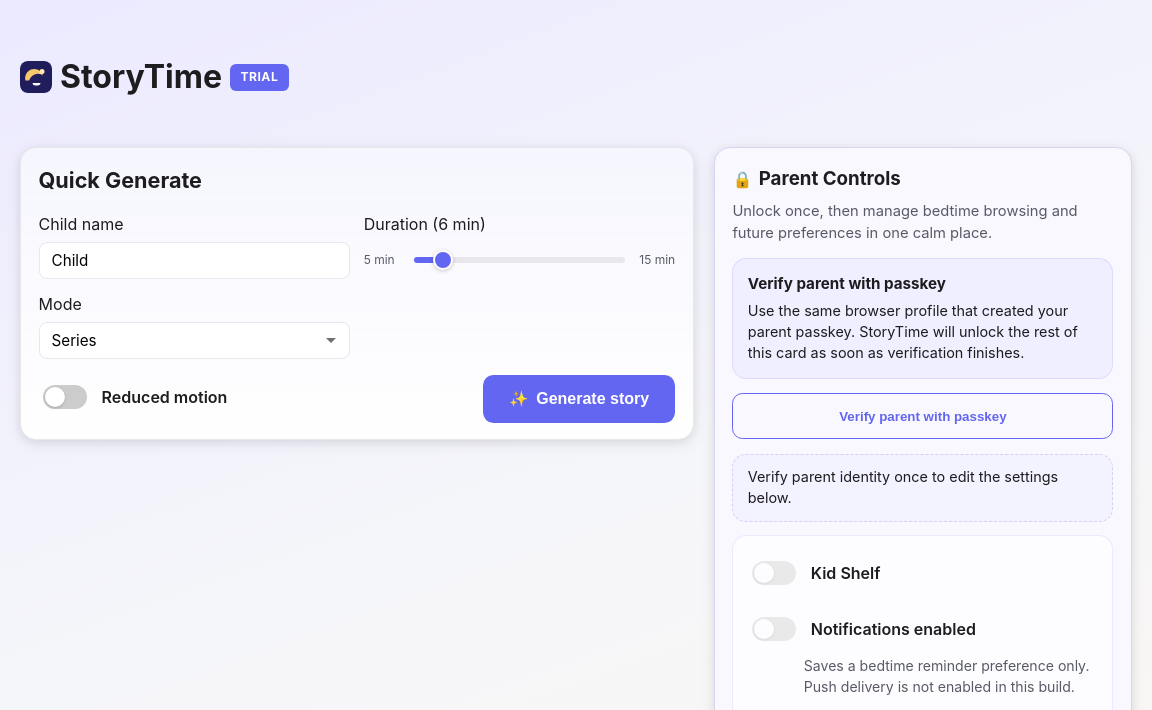
Test: App › keeps one-shot optional details progressive until expanded
Expected: the heading "Quick Generate" is shown, [39, 167, 202, 193]
Select "One-shot" in the dropdown labelled "Mode" at (194, 340), box [39, 322, 350, 359]
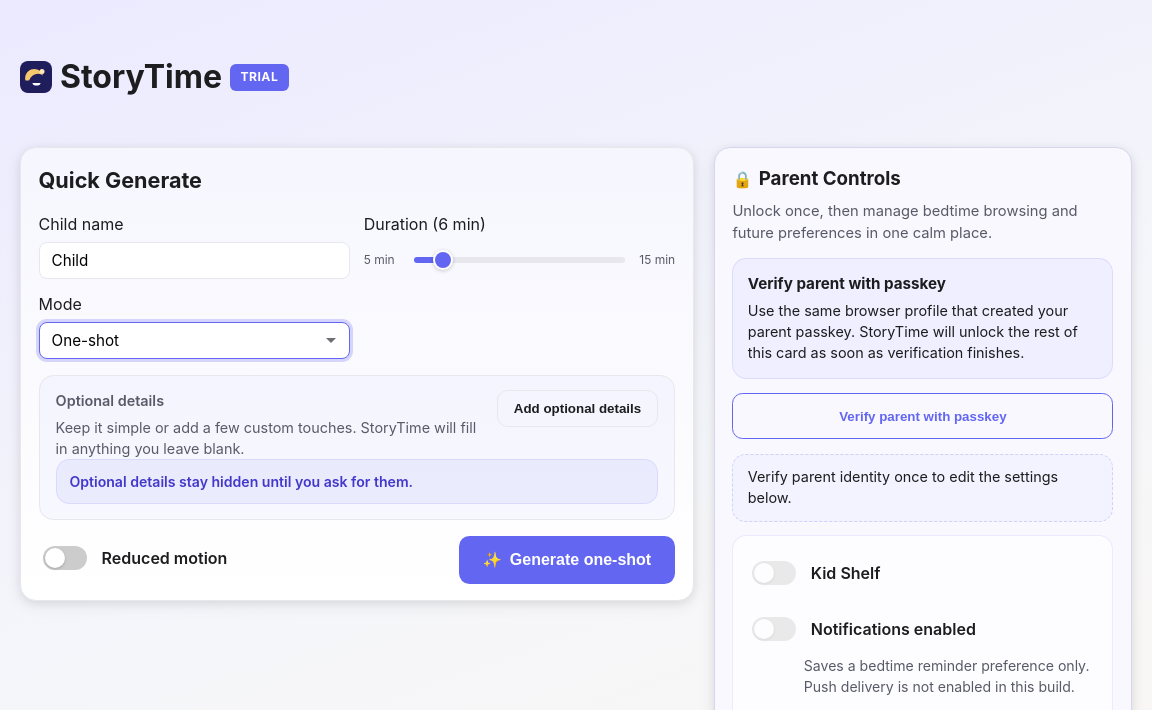
Expected: the field labelled "Story arc" is not shown
Now the button "✨ Generate one-shot" is shown, box [459, 536, 675, 584]
Now the button "Add optional details" is shown
Click the button "Add optional details".
click(578, 408)  # box [497, 390, 658, 427]
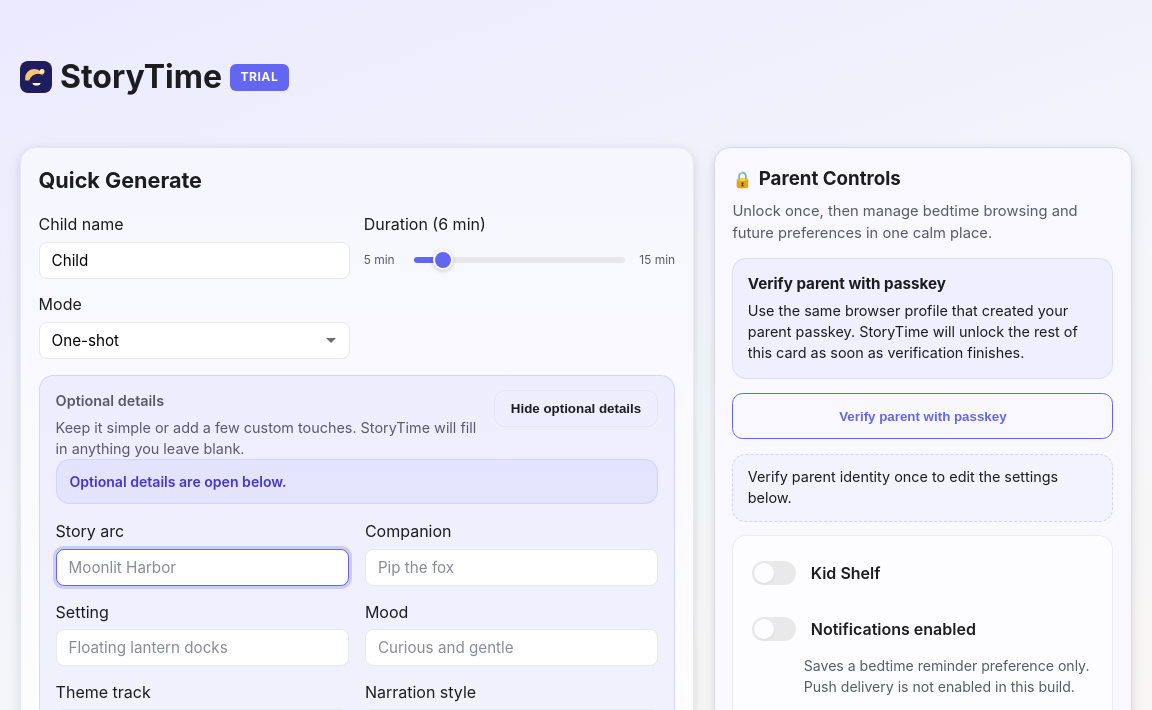
Now the field with placeholder "Moonlit Harbor" is shown, box [56, 549, 349, 586]
Now the field with placeholder "Pip the fox" is shown, box [365, 549, 658, 586]
Now the field with placeholder "Floating lantern docks" is shown, box [56, 629, 349, 666]
